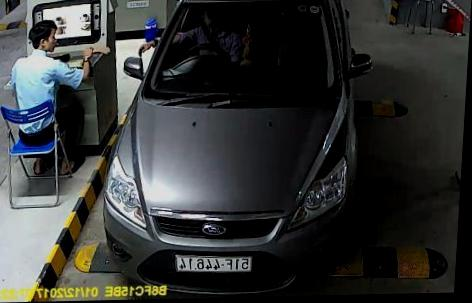License_Plate: (174, 251, 255, 276)
